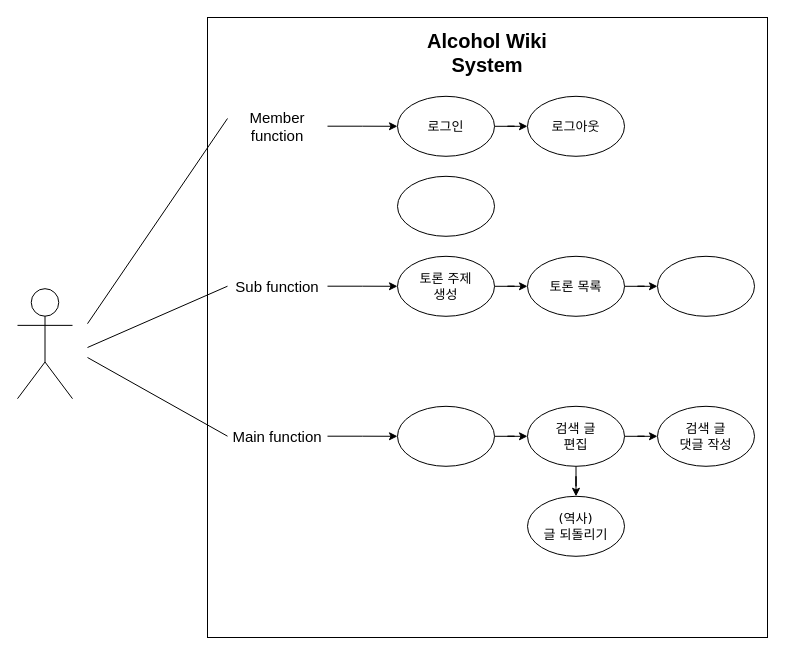
This 785x655 diagram has some shape labels left out. The centre of each missing label's shape, as x and y in pixels:
Member: point (44, 343)
글 검색: point (445, 435)
정보수정: point (445, 205)
토론 댓글 작성: point (705, 285)
